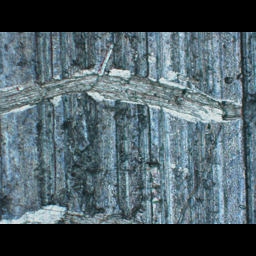d: (84, 74, 256, 125), (0, 188, 149, 223), (1, 72, 97, 118)
